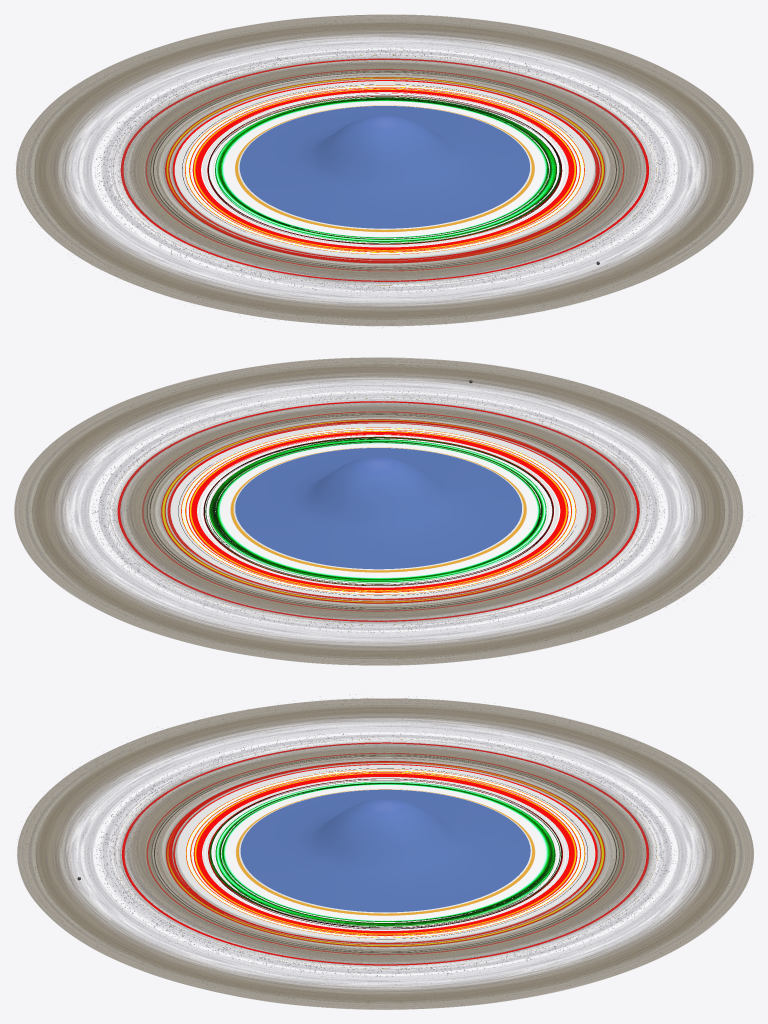
The model's file is black_hole.glb.
3 renders of one model, top to bottom at view 1: azimuth 30°, elevation 25°; view 2: azimuth 150°, elevation 25°; view 3: azimuth 270°, elevation 25°, orthographic.
Parts seen in each view (by area): view 1: black hole_ring, black hole, black hole_black hole blackoutside_0.001, black hole_ring_ring2_0.001; view 2: black hole_ring, black hole, black hole_black hole blackoutside_0.001; view 3: black hole_ring, black hole, black hole_black hole blackoutside_0.001, black hole_ring_ring2_0.001.
Boxes of the visible parts, box(x1,y1,x2,y2) form: black hole_ring: box(16, 14, 753, 326); black hole: box(113, 55, 656, 285); black hole_black hole blackoutside_0.001: box(144, 71, 625, 271); black hole_ring_ring2_0.001: box(95, 48, 674, 291); black hole_ring: box(14, 357, 748, 665); black hole: box(110, 398, 647, 624); black hole_black hole blackoutside_0.001: box(140, 411, 616, 611); black hole_ring: box(17, 694, 753, 1009); black hole: box(114, 739, 656, 968); black hole_black hole blackoutside_0.001: box(145, 754, 625, 955); black hole_ring_ring2_0.001: box(94, 733, 676, 976).
Size of the model in its own units: 3328 by 467 by 3298.
9 materials, 7 textured.
